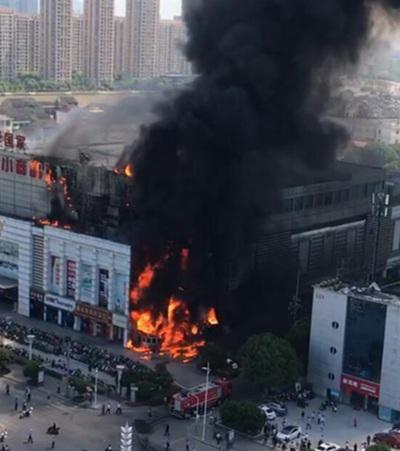fire: (128, 249, 220, 364), (18, 150, 57, 182), (34, 204, 65, 230), (113, 155, 130, 177)
